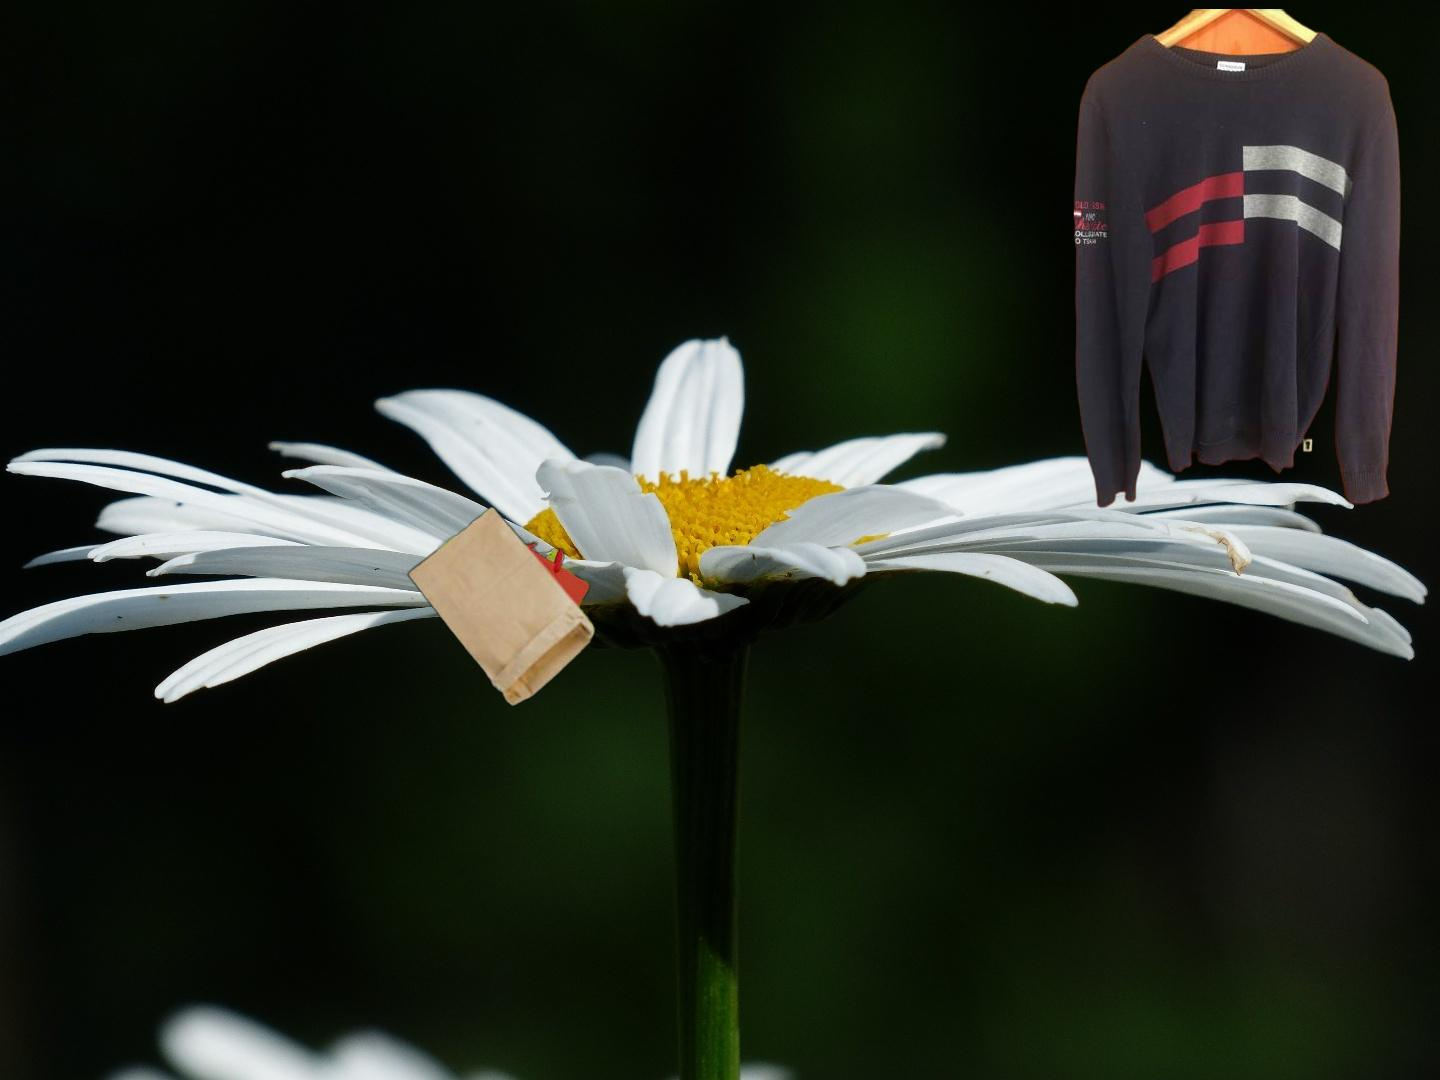clothes: (1069, 9, 1404, 512)
paper-bag: (405, 504, 626, 710)
